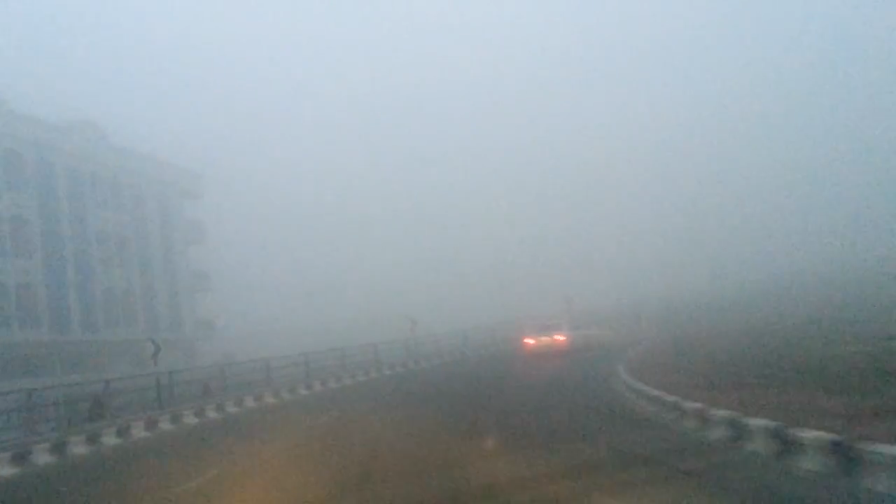car: (521, 320, 574, 355)
